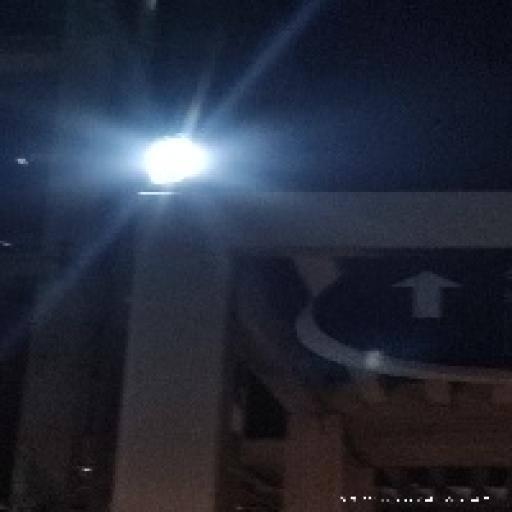Working: (130, 122, 222, 195)
